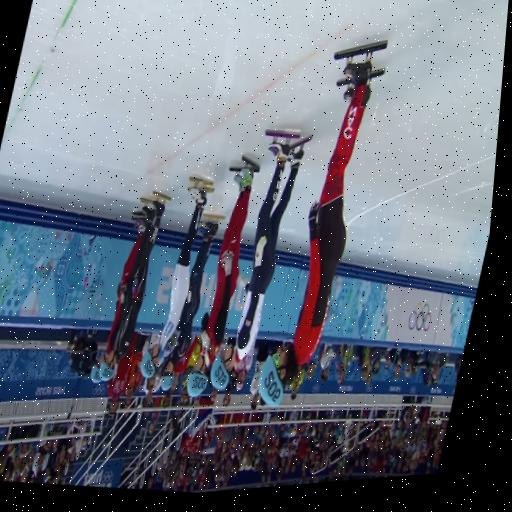Skater: (259, 40, 387, 404), (211, 129, 310, 387), (187, 156, 259, 395), (141, 177, 212, 376), (100, 192, 170, 380), (161, 214, 225, 390), (91, 211, 146, 383)
